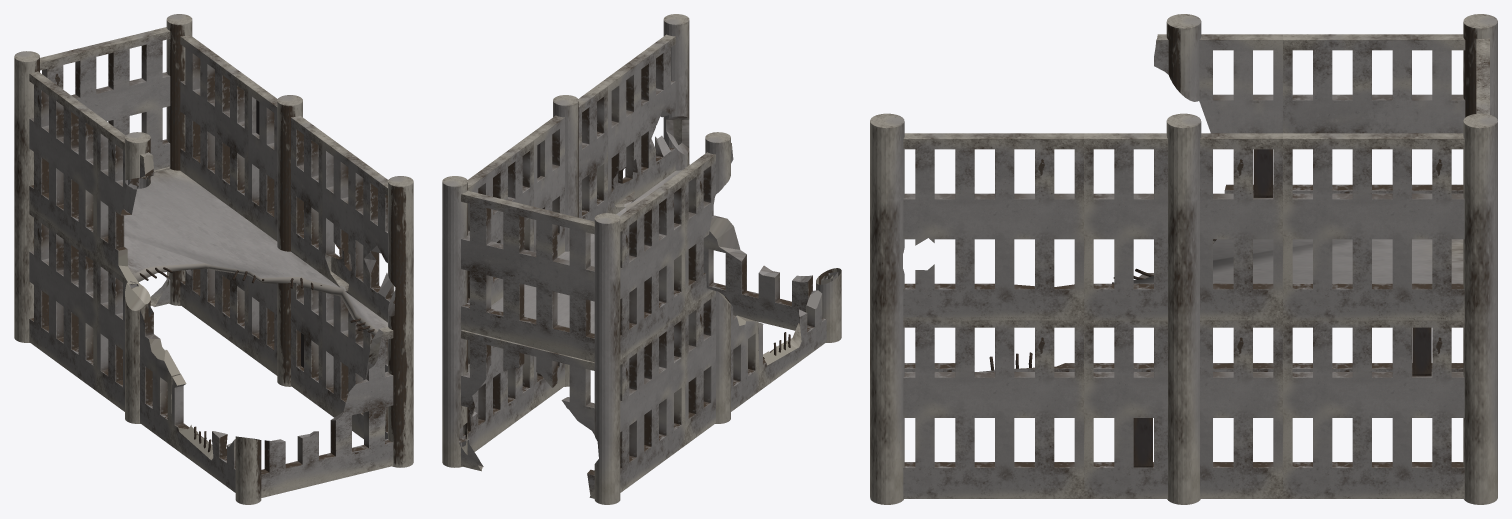
Rendered from Building 1_destroyed.fbx.
3 renders of one model, left to right at view 1: azimuth 30°, elevation 25°; view 2: azimuth 150°, elevation 25°; view 3: azimuth 270°, elevation 25°, orthographic. The views are drawn at different scales.
Parts seen in each view (by area): view 1: Cube.024; view 2: Cube.024; view 3: Cube.024.
Boxes of the visible parts, x1,y1,x2,y2 form: Cube.024: (14,14,413,504); Cube.024: (442,14,841,504); Cube.024: (870,14,1497,504).
Bounding box in the file's own units: 976 × 1502 × 2268.
Materials: 2 (2 with a texture image).
